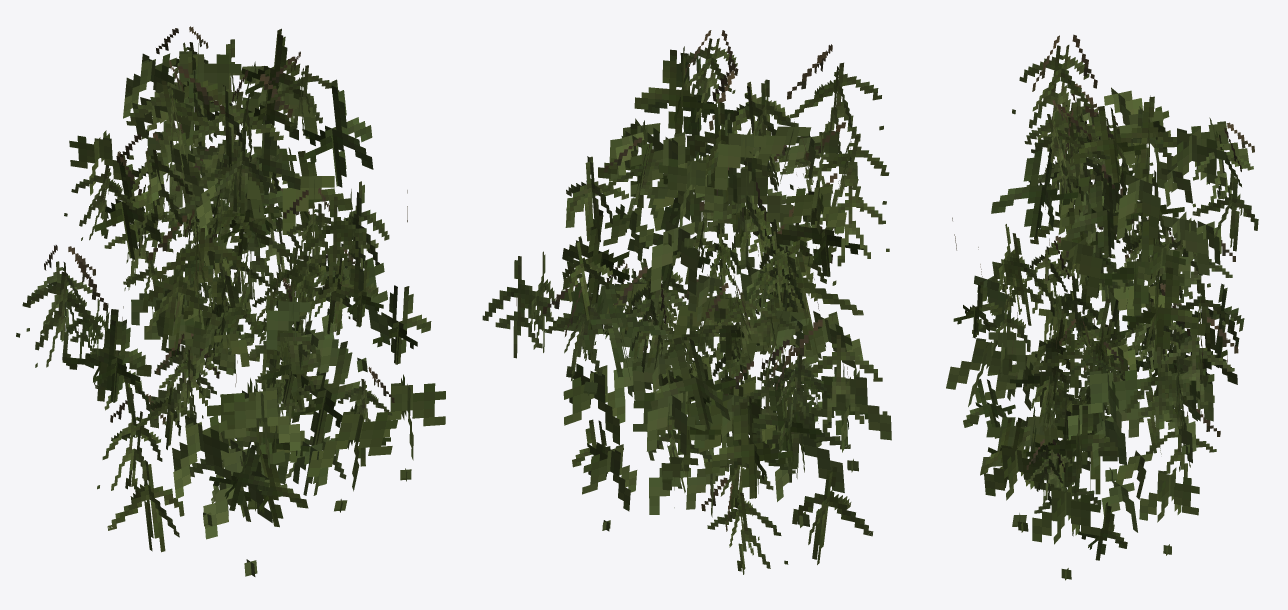
File: hedge-shrub-lod2.glb
3 renders of one model, left to right at view 1: azimuth 30°, elevation 25°; view 2: azimuth 150°, elevation 25°; view 3: azimuth 270°, elevation 25°, orthographic. The views are drawn at different scales.
Parts seen in each view (by area): view 1: impostor; view 2: impostor; view 3: impostor.
Part boxes in pixels (x1,y1,x2,y2): impostor: [16, 26, 445, 576]; impostor: [482, 30, 891, 574]; impostor: [946, 34, 1258, 580].
Bounding box in the file's own units: 0.9989 × 1.28 × 0.8388.
Materials: 1 (1 with a texture image).
